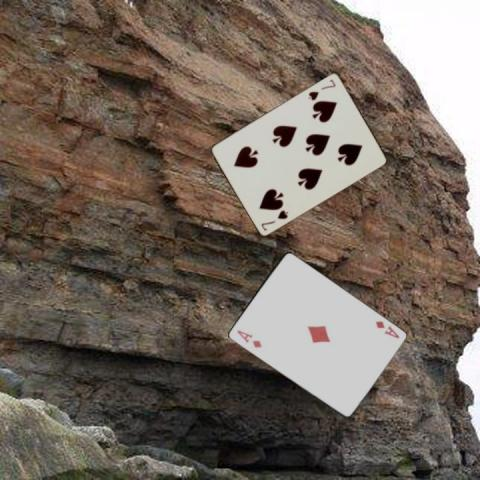7s: (305, 76, 337, 101), (258, 207, 289, 232)
Ad: (233, 328, 263, 350), (372, 318, 400, 340)
